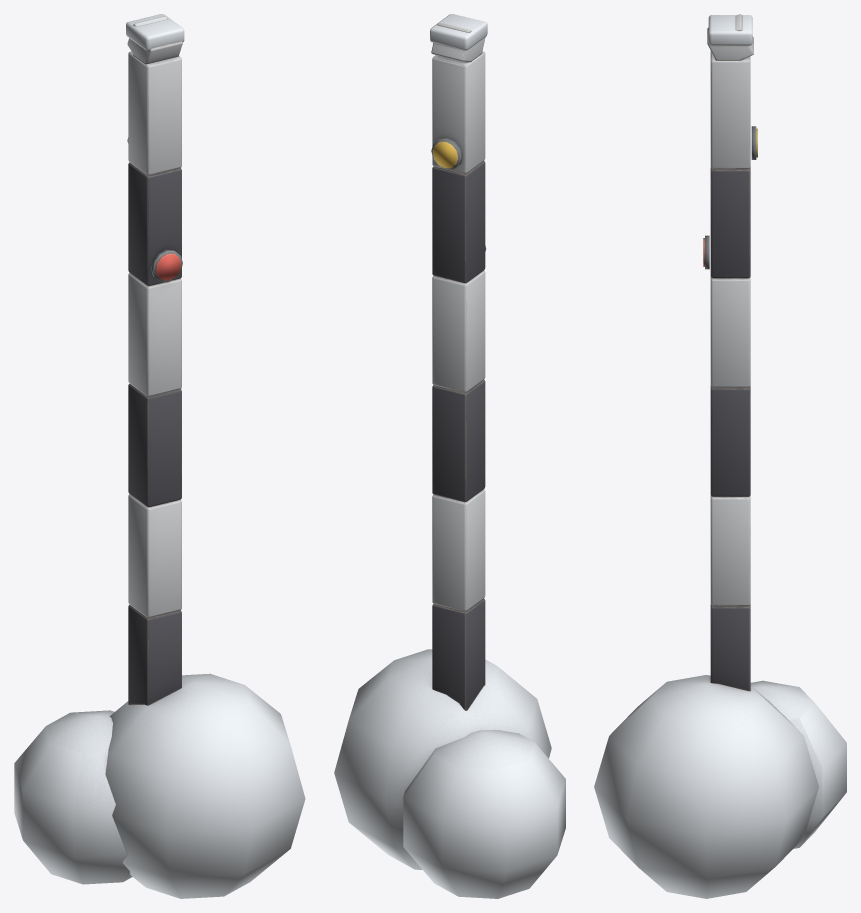
Rendered from winter_road_marker.glb.
The picture shows the model from 3 angles, left to right: view 1: azimuth 30°, elevation 25°; view 2: azimuth 150°, elevation 25°; view 3: azimuth 270°, elevation 25°; orthographic projection.
Parts seen in each view (by area): view 1: winter_road_marker; view 2: winter_road_marker; view 3: winter_road_marker.
Part boxes in pixels (x1,y1,x2,y2): winter_road_marker: (14, 14, 305, 898); winter_road_marker: (334, 14, 565, 898); winter_road_marker: (594, 14, 846, 898).
Bounding box in the file's own units: 0.6892 × 2.34 × 0.6292.
Materials: 1 (1 with a texture image).
